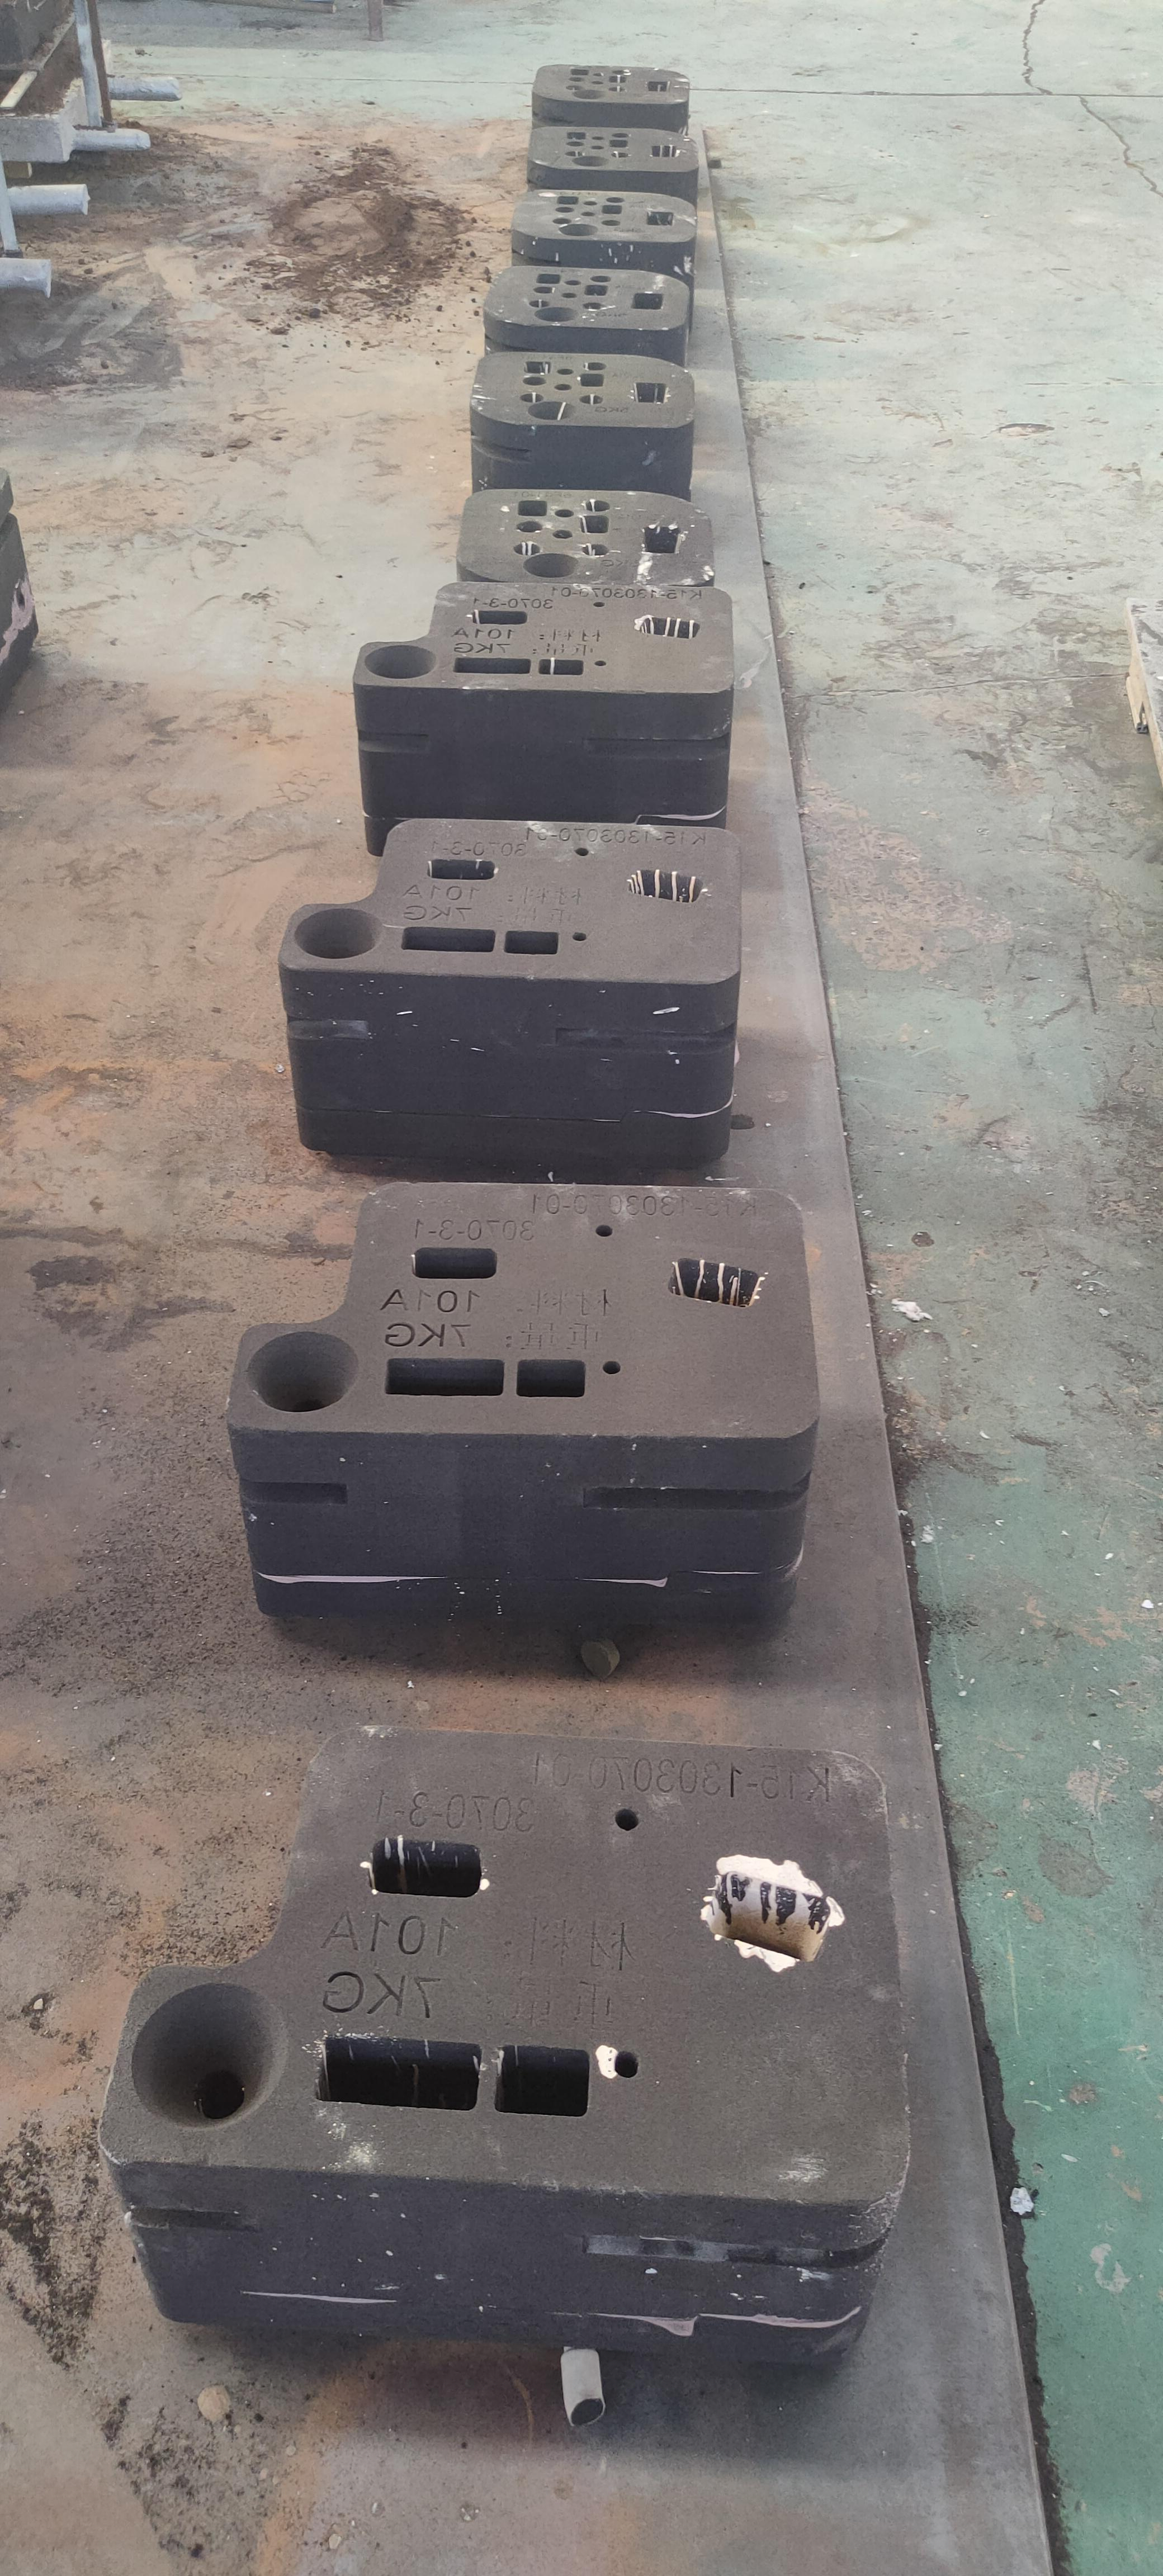pouring hole: (131, 1983, 289, 2129), (248, 1331, 358, 1413), (294, 909, 384, 959), (365, 646, 437, 680), (524, 552, 580, 578), (527, 401, 575, 421), (534, 307, 578, 322), (557, 223, 598, 237), (572, 156, 609, 168), (572, 89, 604, 100)
